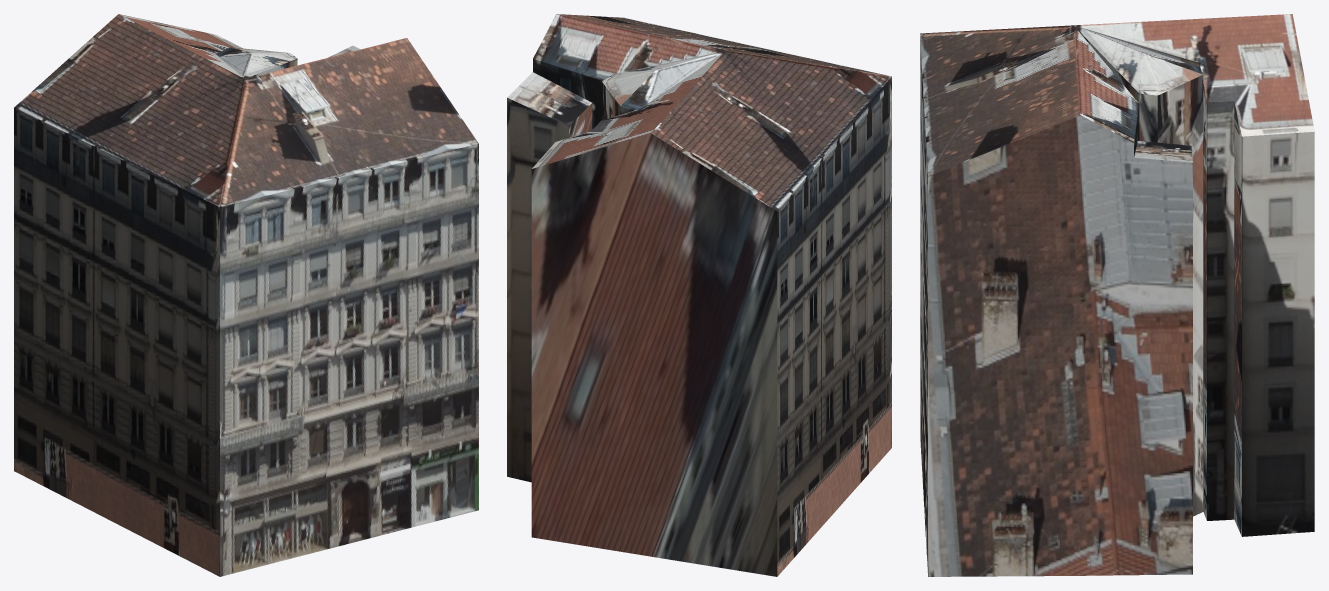
3 views of the same model, side by side, from view 1: azimuth 30°, elevation 25°; view 2: azimuth 150°, elevation 25°; view 3: azimuth 270°, elevation 25° (orthographic). The views are drawn at different scales.
Visible parts, largest first — view 1: Z_UP; view 2: Z_UP; view 3: Z_UP.
Boxes of the visible parts, x1=… form: Z_UP: x1=14, y1=14, x2=478, y2=576; Z_UP: x1=507, y1=14, x2=891, y2=576; Z_UP: x1=920, y1=14, x2=1314, y2=576.
Bounding box in the file's own units: 20.6 × 27.03 × 20.9.
2 materials, 1 textured.
